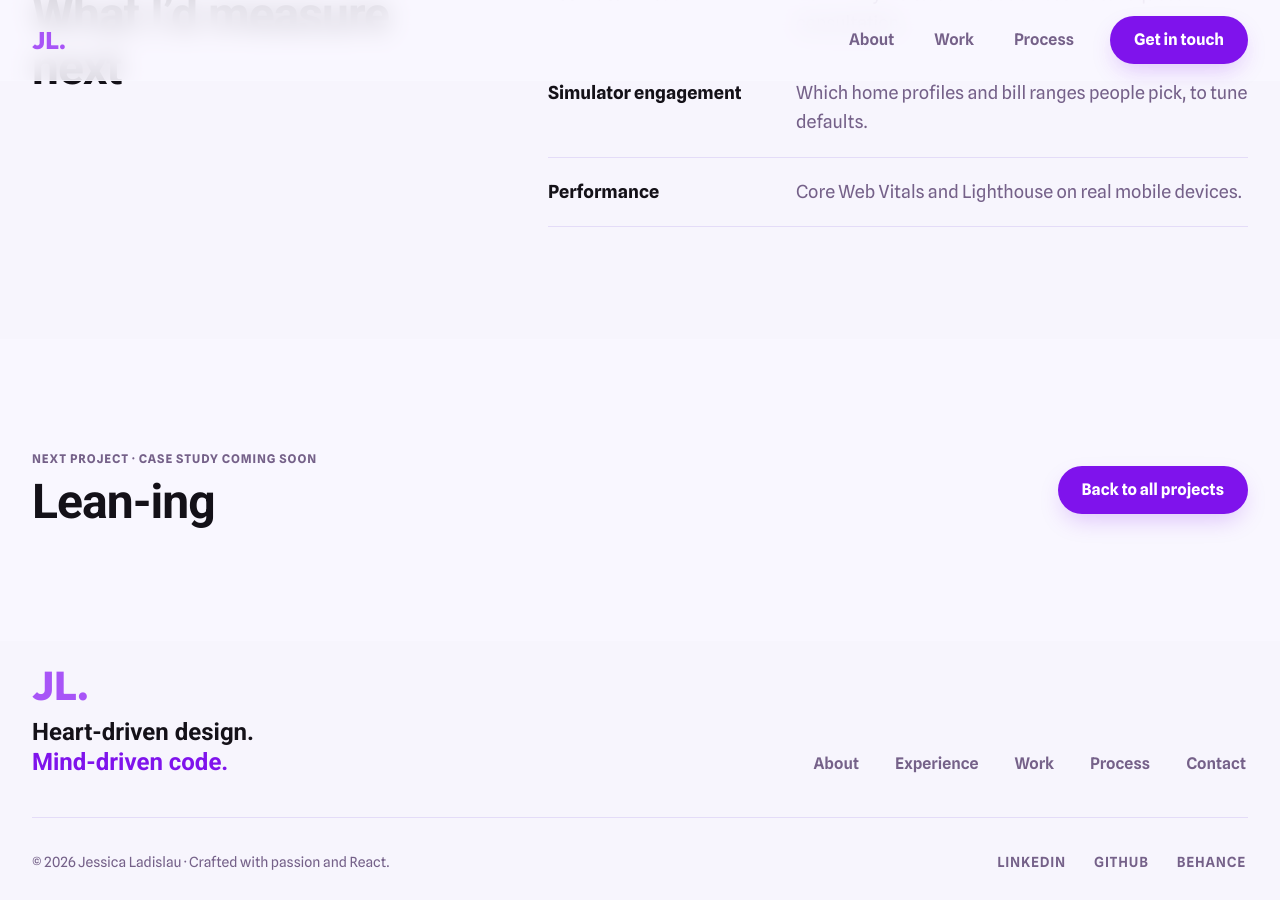
Scenario: App routing and home page › goes back to the home page from the case study button
(page scrolled)
Step 1. Click the link "Back to all projects" → coordinates (1153, 490), box [1058, 466, 1248, 514]
(page scrolled)
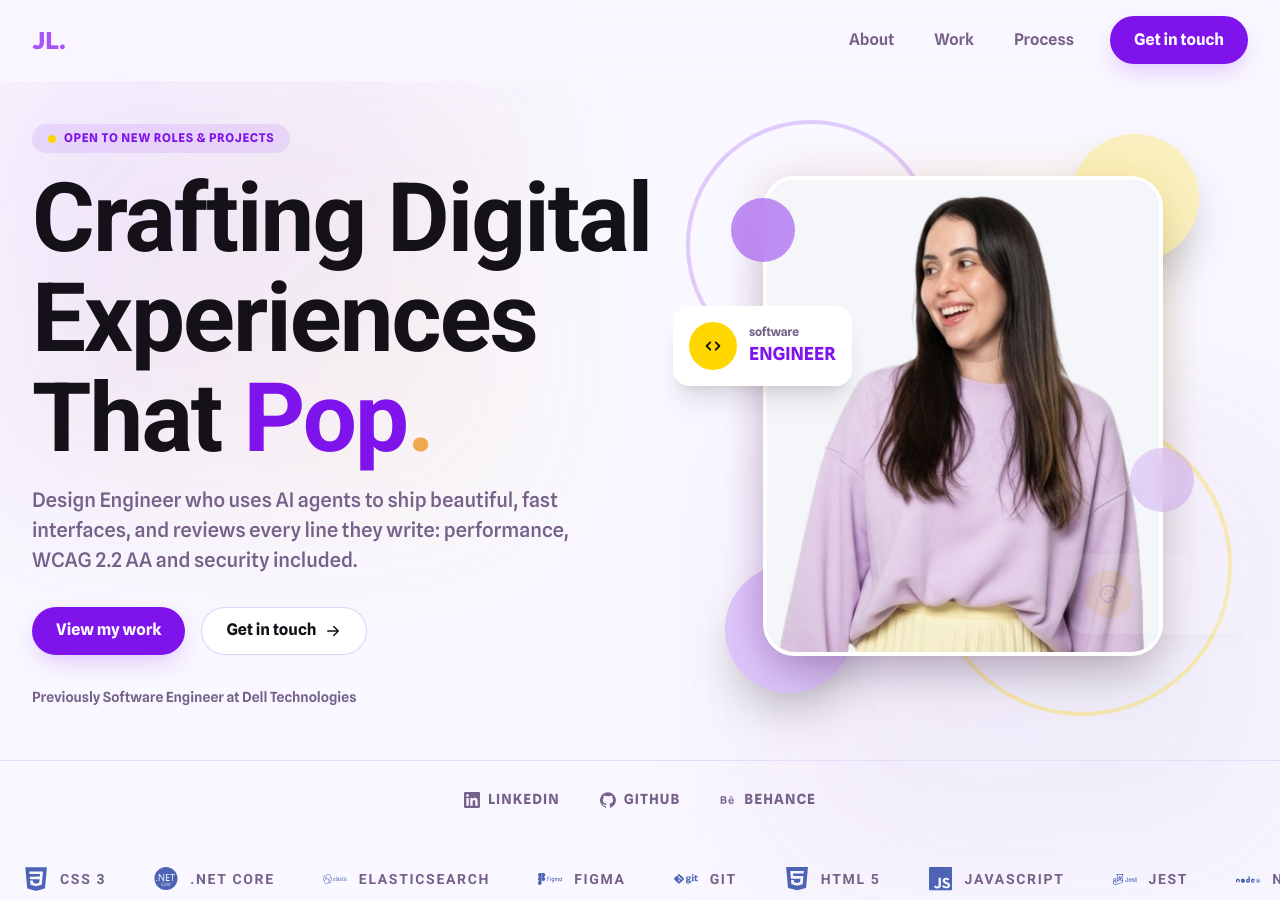
Expected: the heading shows "Crafting Digital", [32, 162, 651, 274]
